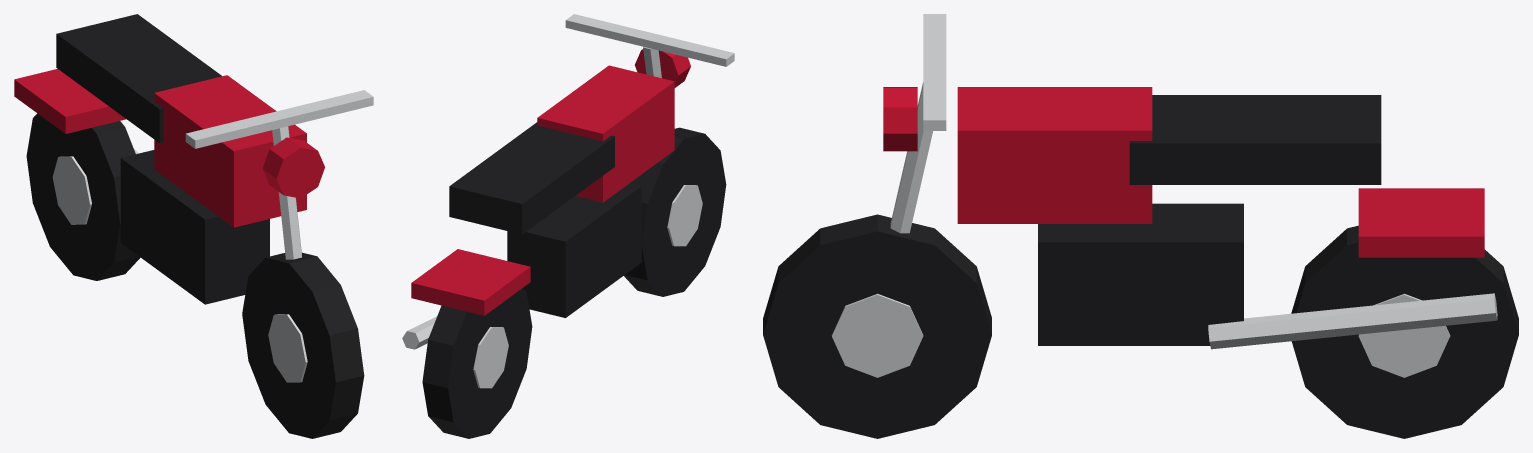
Rendered from motorbike.glb.
The picture shows the model from 3 angles, left to right: view 1: azimuth 30°, elevation 25°; view 2: azimuth 150°, elevation 25°; view 3: azimuth 270°, elevation 25°; orthographic projection. The views are drawn at different scales.
Visible parts, largest first — view 1: Motorbike_Black, Motorbike_Body, Motorbike_Chrome; view 2: Motorbike_Black, Motorbike_Body, Motorbike_Chrome; view 3: Motorbike_Black, Motorbike_Body, Motorbike_Chrome.
Part boxes in pixels (x1,y1,x2,y2): Motorbike_Black: [26, 14, 364, 438]; Motorbike_Body: [14, 69, 324, 227]; Motorbike_Chrome: [52, 90, 373, 382]; Motorbike_Black: [422, 122, 726, 438]; Motorbike_Body: [411, 49, 690, 315]; Motorbike_Chrome: [402, 14, 734, 388]; Motorbike_Black: [763, 95, 1518, 438]; Motorbike_Body: [883, 87, 1484, 257]; Motorbike_Chrome: [831, 14, 1497, 377].
Size of the model in its own units: 2.2 by 3.5 by 6.6.
